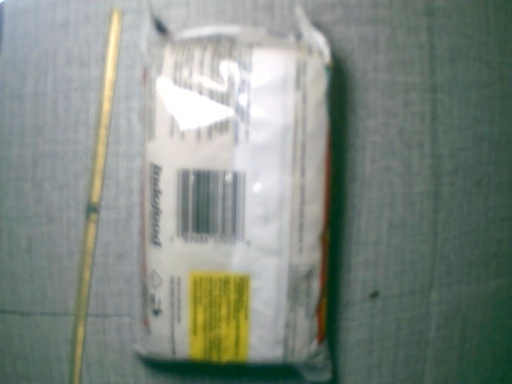plastic: (137, 5, 336, 384)
trash: (67, 9, 123, 384)
